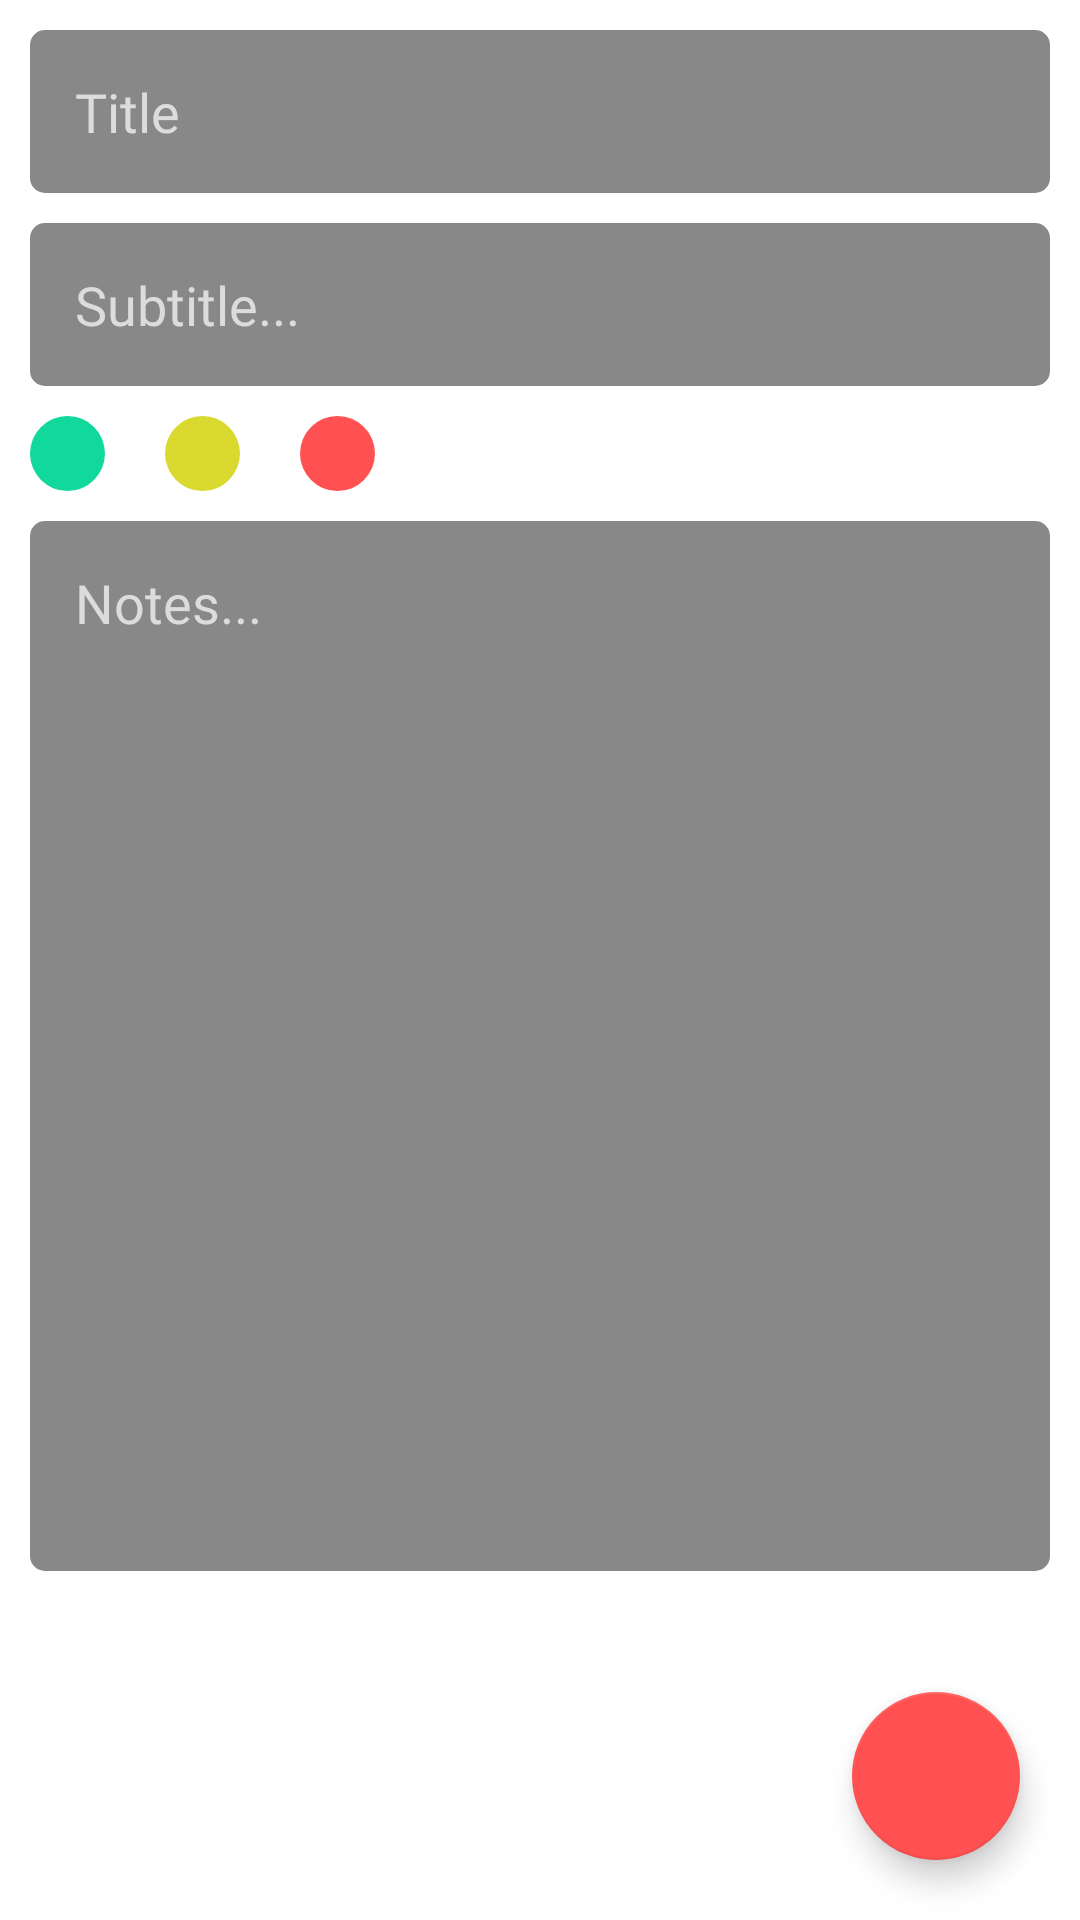

Where icons sit on this 1080×1920 app screen, as (x1, y1, x2, y2):
dot: (30, 416, 105, 491), (165, 416, 240, 491), (300, 416, 375, 491)
